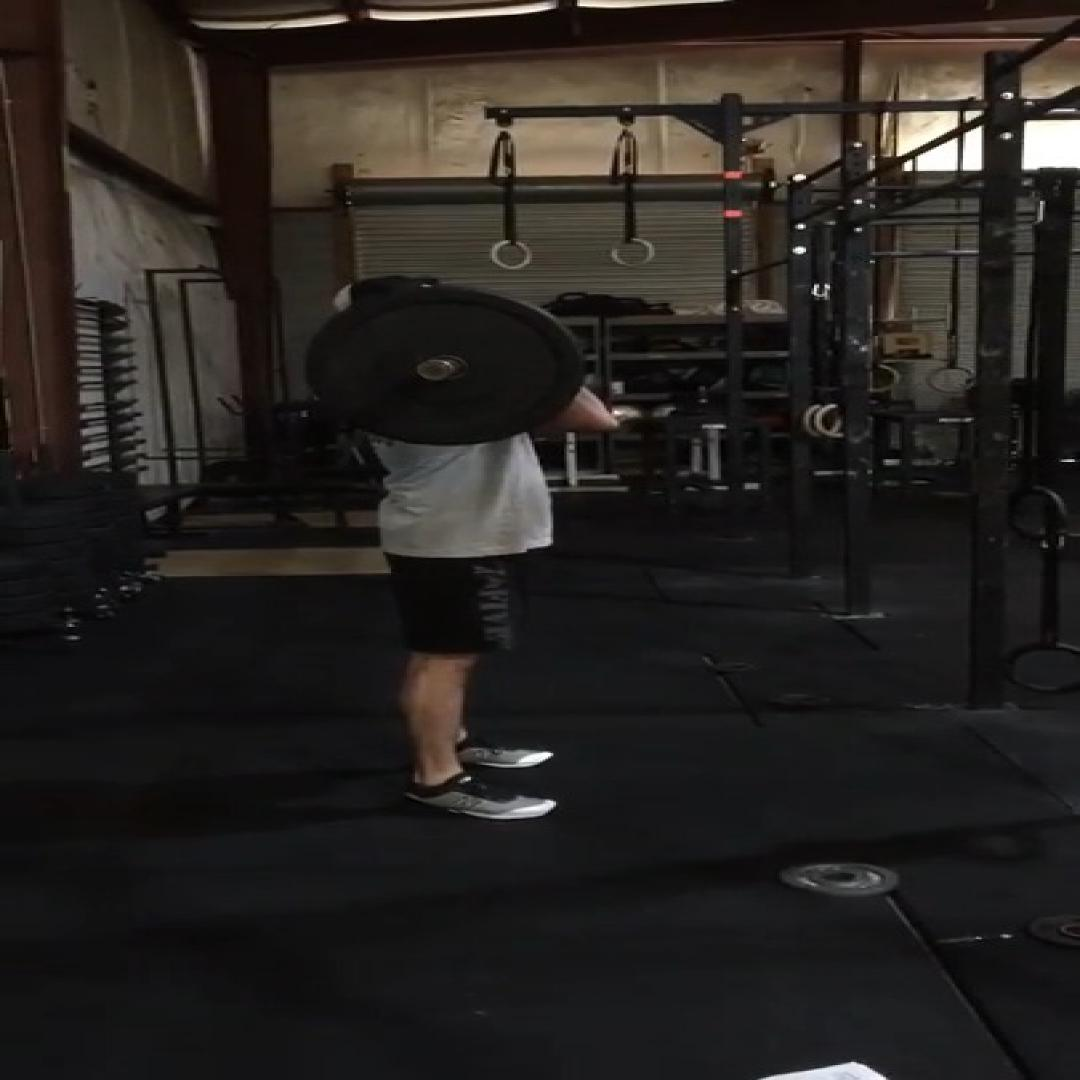Bar: (415, 359, 458, 381)
Barbell: (301, 288, 585, 446)
